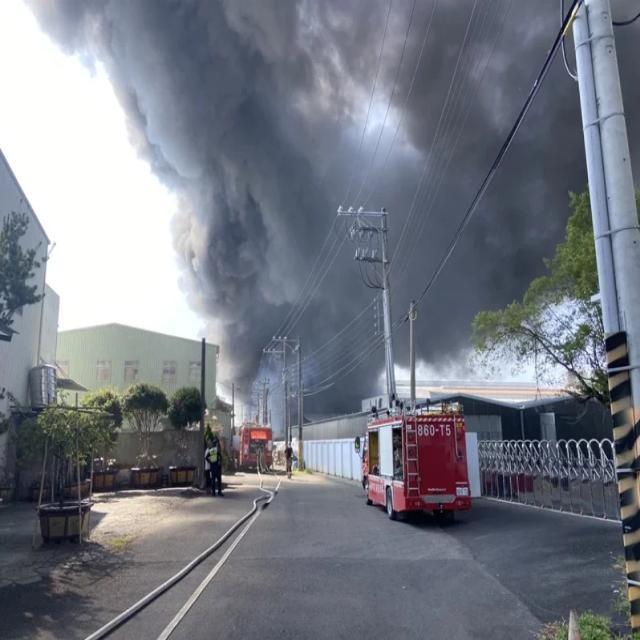Smoke: (302, 0, 568, 391), (28, 0, 292, 335)
